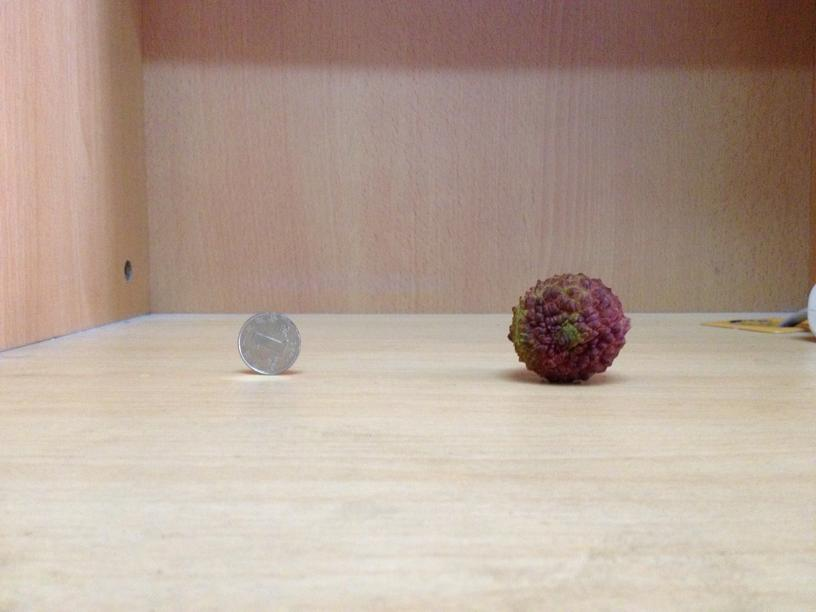coin: (237, 310, 301, 373)
litchi: (509, 276, 627, 383)
